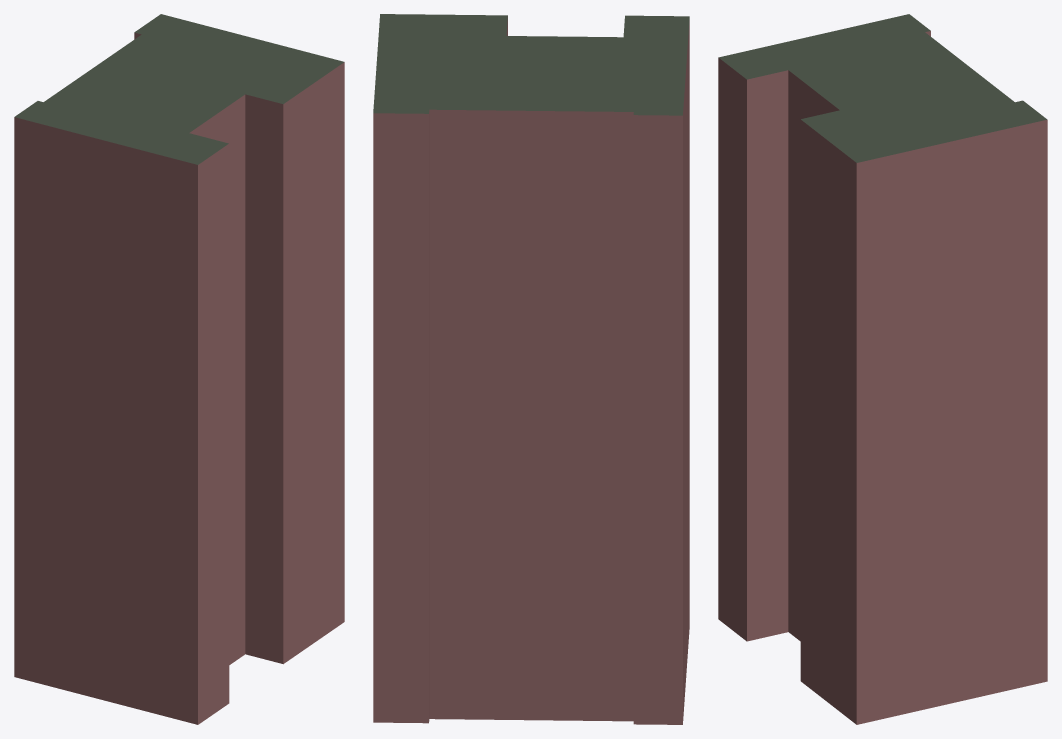
Rendered from nyc-1016041-0.glb.
The picture shows the model from 3 angles, left to right: view 1: azimuth 30°, elevation 25°; view 2: azimuth 150°, elevation 25°; view 3: azimuth 270°, elevation 25°; orthographic projection. The views are drawn at different scales.
Visible parts, largest first — view 1: nyc-1016041-0; view 2: nyc-1016041-0; view 3: nyc-1016041-0.
Part boxes in pixels (x1,y1,x2,y2): nyc-1016041-0: [14, 14, 344, 724]; nyc-1016041-0: [373, 14, 689, 724]; nyc-1016041-0: [718, 14, 1047, 724].
Size of the model in its own units: 43.21 by 75.96 by 40.32.
